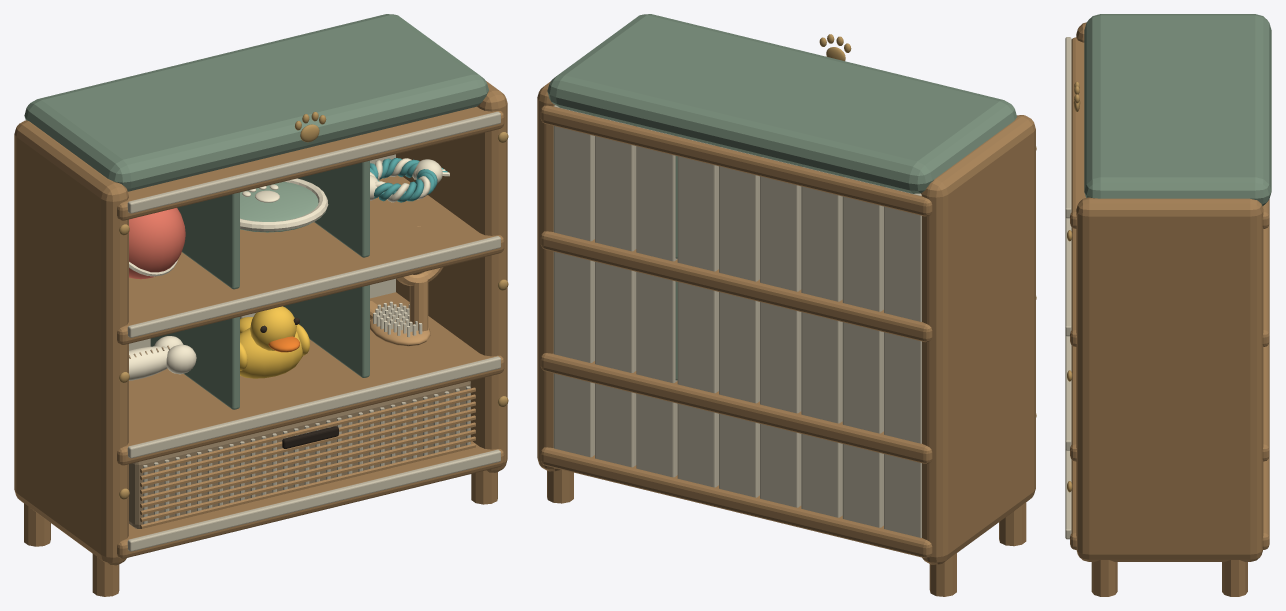
Rendered from cabinet.glb.
3 renders of one model, left to right at view 1: azimuth 30°, elevation 25°; view 2: azimuth 150°, elevation 25°; view 3: azimuth 270°, elevation 25°, orthographic. The views are drawn at different scales.
Parts seen in each view (by area): view 1: ToyCabinet, Toy_duck, Toy_disc, Toy_ball, Toy_rope, Toy_bone, Toy_brush, Toy_rattle; view 2: ToyCabinet; view 3: ToyCabinet.
Boxes of the visible parts, bbox=[...] form: ToyCabinet: bbox=[14, 14, 508, 596]; Toy_duck: bbox=[240, 306, 309, 378]; Toy_disc: bbox=[240, 178, 328, 232]; Toy_ball: bbox=[129, 208, 185, 279]; Toy_rope: bbox=[370, 158, 449, 202]; Toy_bone: bbox=[129, 336, 196, 380]; Toy_brush: bbox=[370, 300, 430, 346]; Toy_rattle: bbox=[396, 226, 443, 331]; ToyCabinet: bbox=[537, 14, 1036, 596]; ToyCabinet: bbox=[1065, 14, 1271, 596].
Size of the model in its own units: 1.09 by 1.14 by 0.5065.
